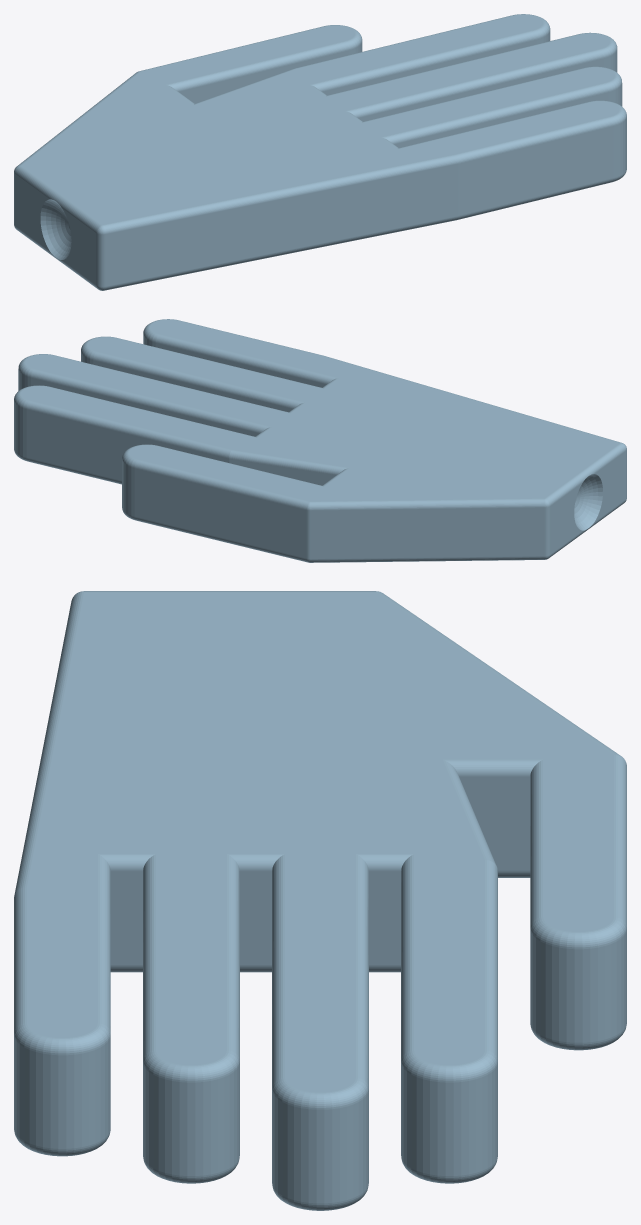
The model's file is case-04_lib00006.glb.
3 renders of one model, top to bottom at view 1: azimuth 30°, elevation 25°; view 2: azimuth 150°, elevation 25°; view 3: azimuth 270°, elevation 25°, orthographic. The views are drawn at different scales.
Visible parts, largest first — view 1: lib00006; view 2: lib00006; view 3: lib00006.
Part boxes in pixels (x1,y1,x2,y2): lib00006: (14, 14, 626, 290); lib00006: (14, 319, 626, 562); lib00006: (14, 591, 626, 1210).
Size of the model in its own units: 78 by 8.32 by 39.53.
